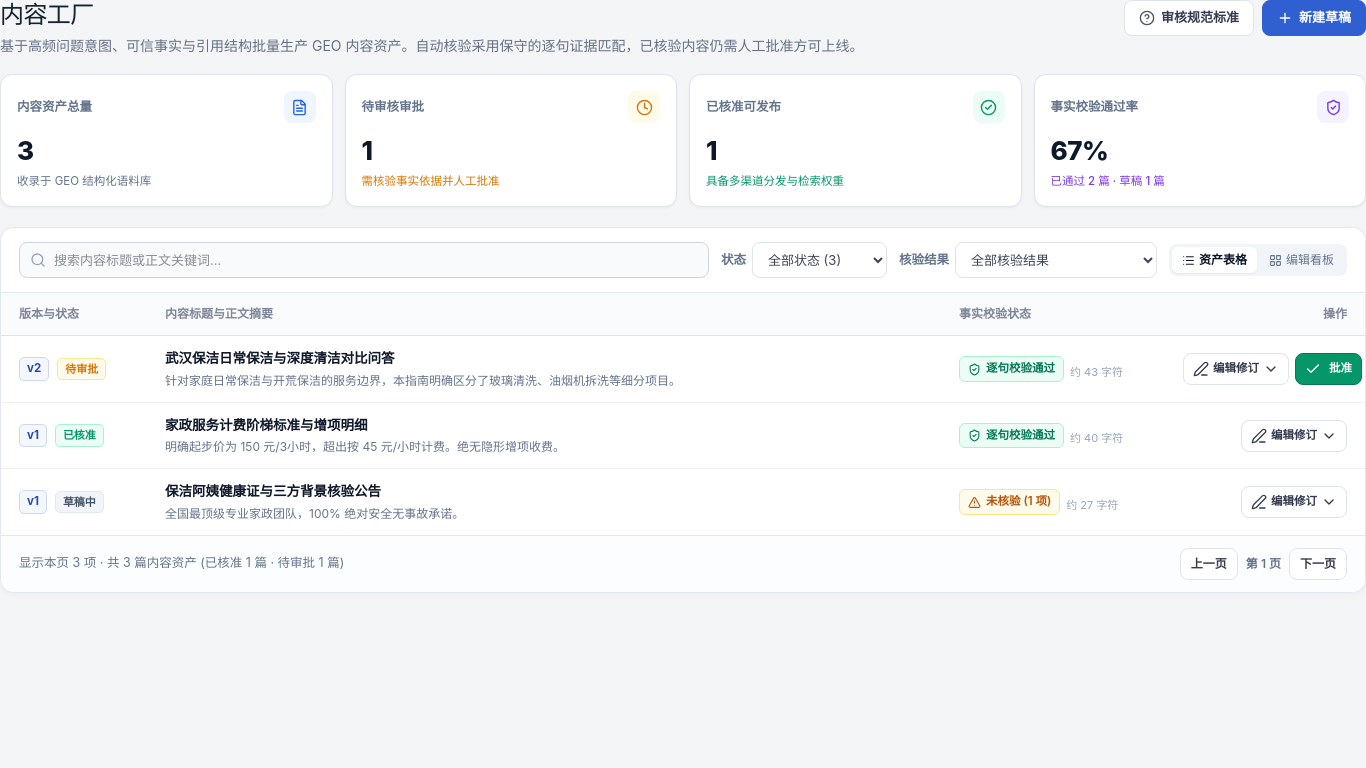
it: ContentView Component Redesign › toggles the audit standards & fact-check banner
The width and height of the screenshot is (1366, 768).
Expected: the text "审核规范标准" is shown, [1161,8,1239,28]
Expected: the text "GEO 语料事实核验与审核口径标准" is not shown
// Click to open banner
Click the button "审核规范标准". click: (1189, 18)
box: [1124,0,1254,36]
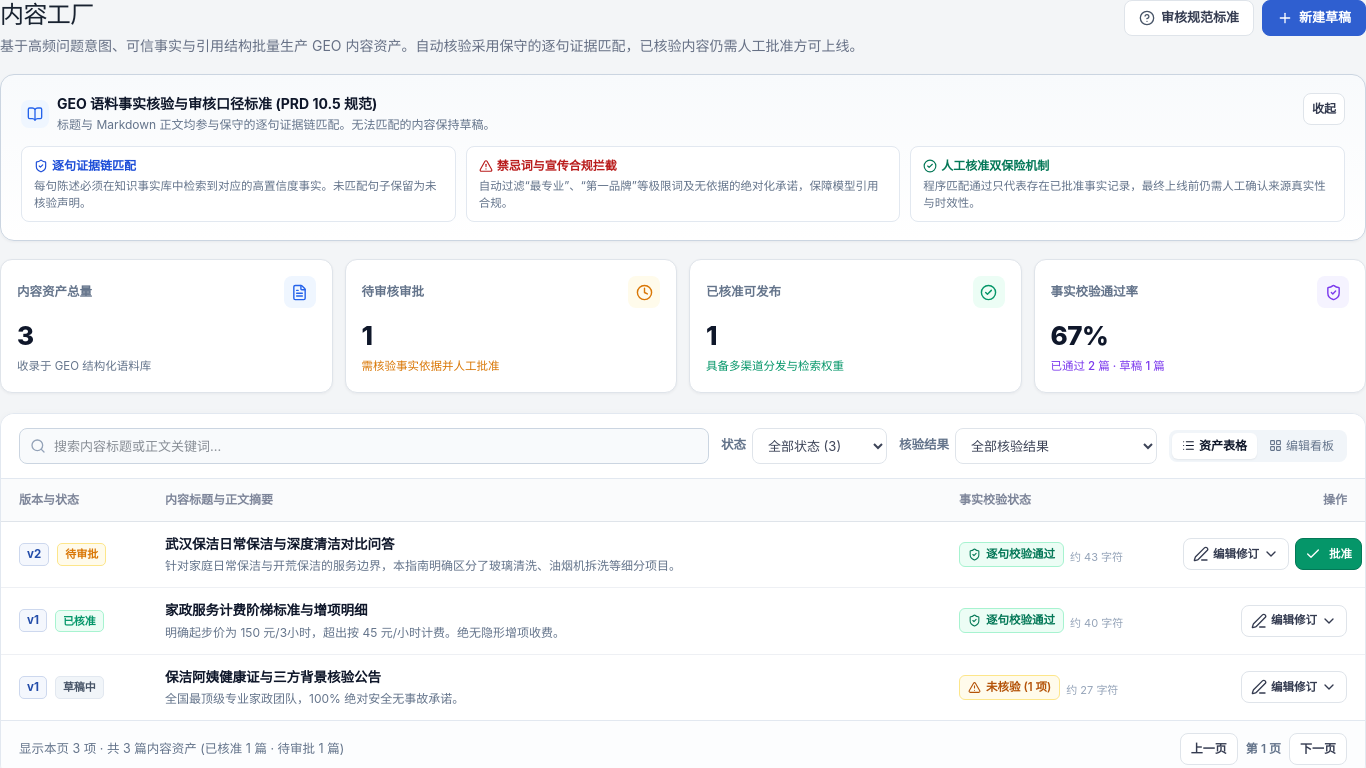
Result: the heading "GEO 语料事实核验与审核口径标准 (PRD 10.5 规范)" is shown at [57,95,377,112]
Result: the text "逐句证据链匹配" is shown at [52,157,136,175]
// Click to close banner
Click the button "收起". click: (1324, 109)
box: [1303,93,1345,125]
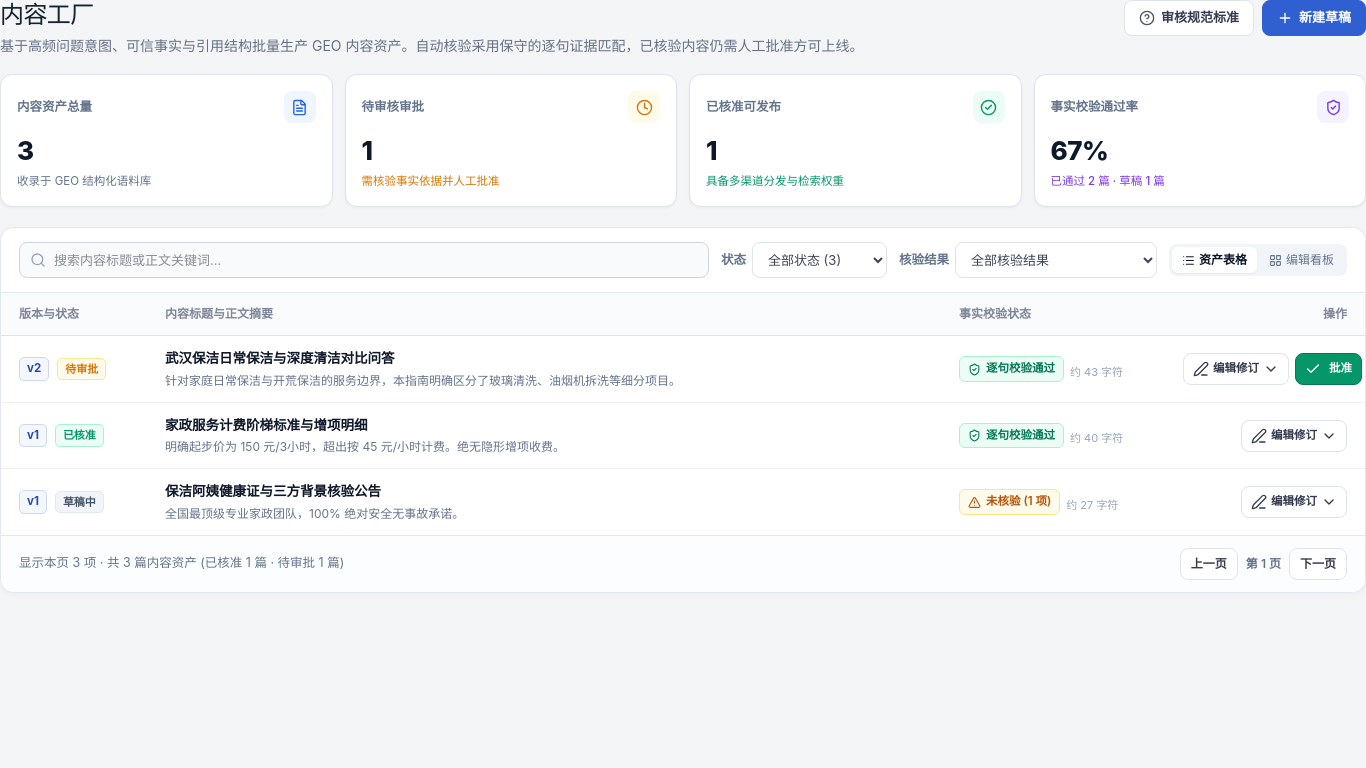
Result: the heading "GEO 语料事实核验与审核口径标准" is gone
